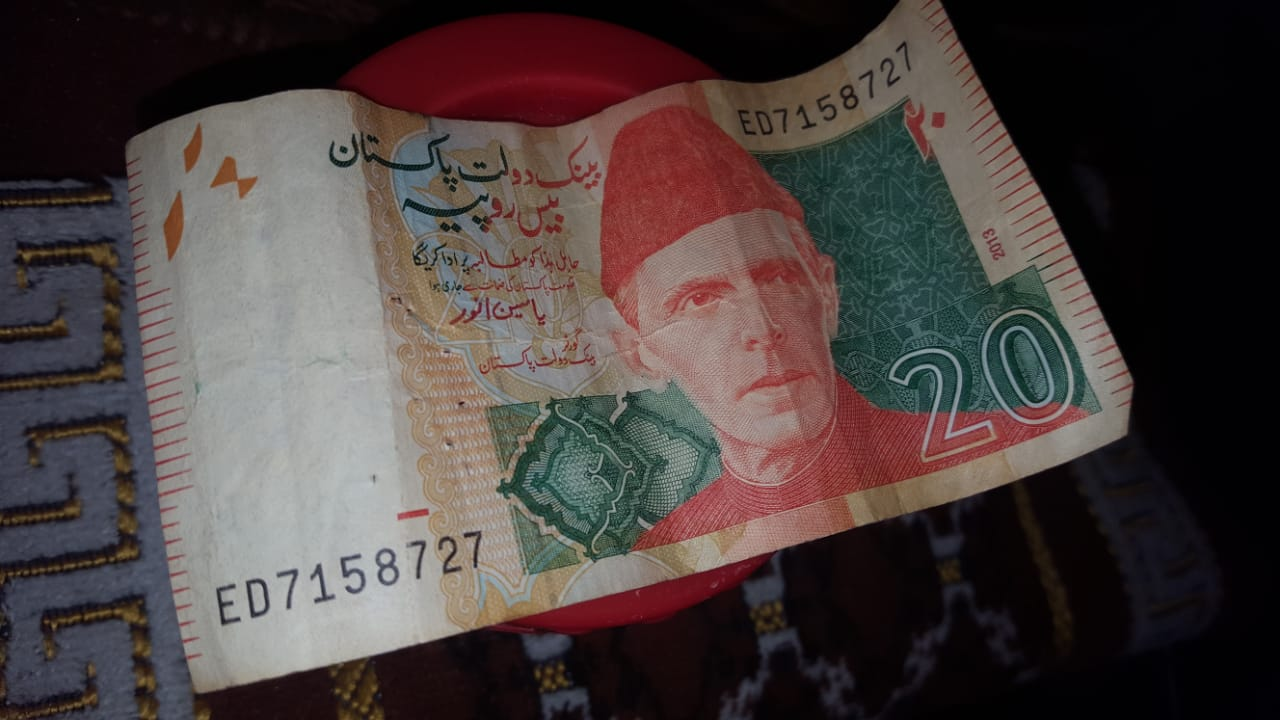20 rupee: (98, 15, 1204, 673)
